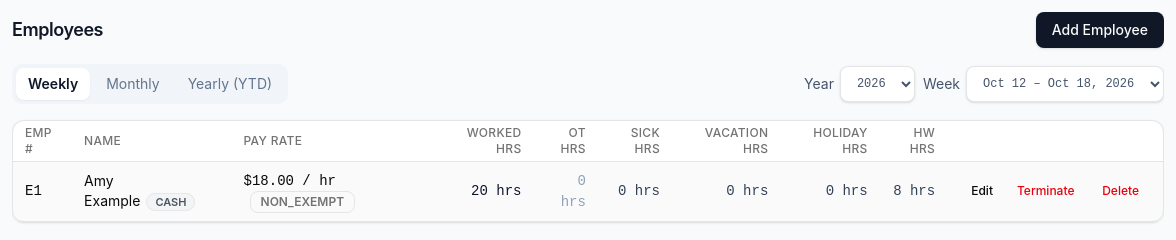
EmployeesPage › year/week/month dropdowns filter the summary totals
The image size is (1176, 240).
Check: the text "Amy Example" is shown, box [84, 172, 140, 209]
Check: the text "20 hrs" is shown, box [434, 161, 534, 220]
Select "Oct 05 – Oct 11, 2026" in the dropdown named "Summary week": (1065, 84) [966, 66, 1164, 102]
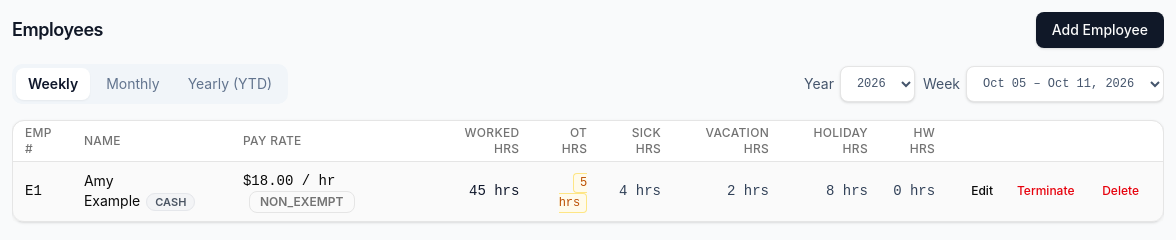
Check: the text "45 hrs" is shown, box [432, 161, 532, 220]
Check: the text "5 hrs" is shown, box [559, 173, 587, 213]
Click the button "Monthly": (133, 84) [94, 68, 172, 100]
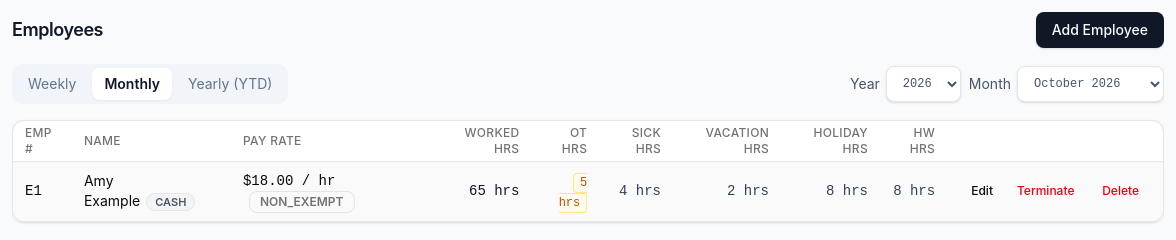
Check: the text "8 hrs" is shown 2 times, box [781, 161, 880, 220]; [880, 161, 947, 220]
Check: the text "65 hrs" is shown, box [432, 161, 532, 220]
Select "September 2026" in the dropdown named "Summary month": (1090, 84) [1017, 66, 1164, 102]
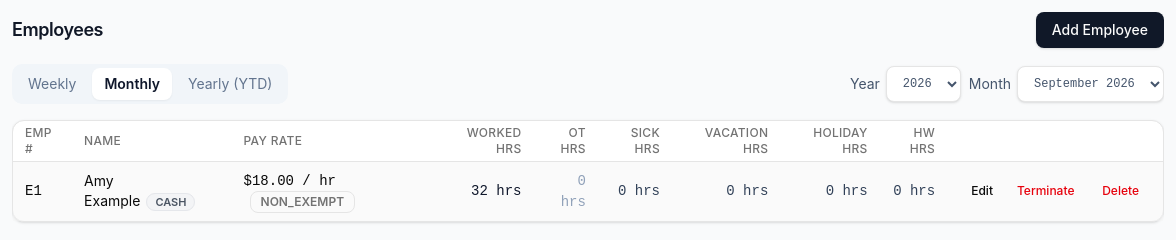
Check: the text "32 hrs" is shown, box [434, 161, 534, 220]
Click the button "Yearly (YTD)": (230, 84) [176, 68, 284, 100]
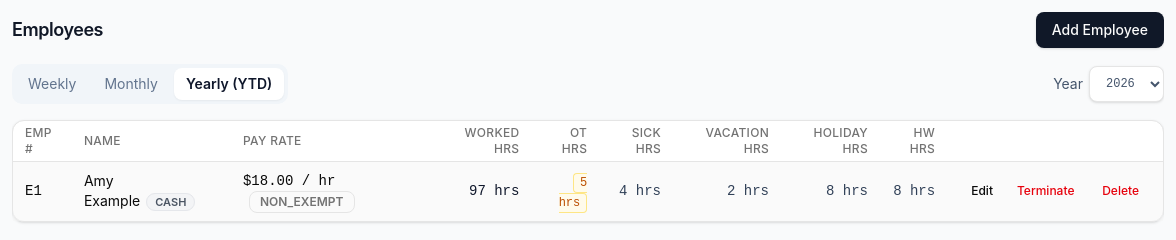
Check: the text "97 hrs" is shown, box [432, 161, 532, 220]
Check: the dropdown labelled "Summary month" is gone
Select "2025" in the dropdown named "Summary year": (1126, 84) [1089, 66, 1164, 102]
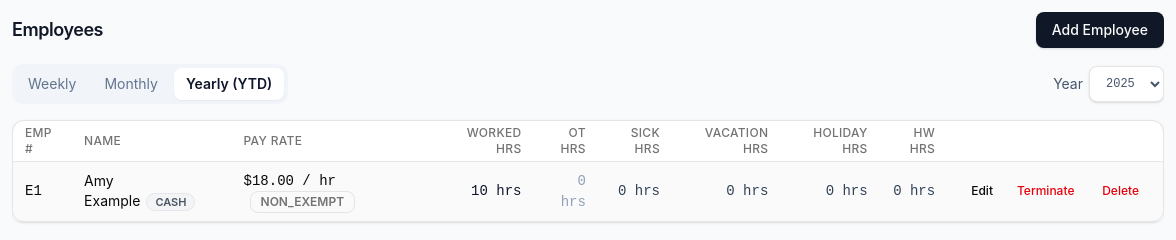
Check: the text "10 hrs" is shown, box [434, 161, 534, 220]
